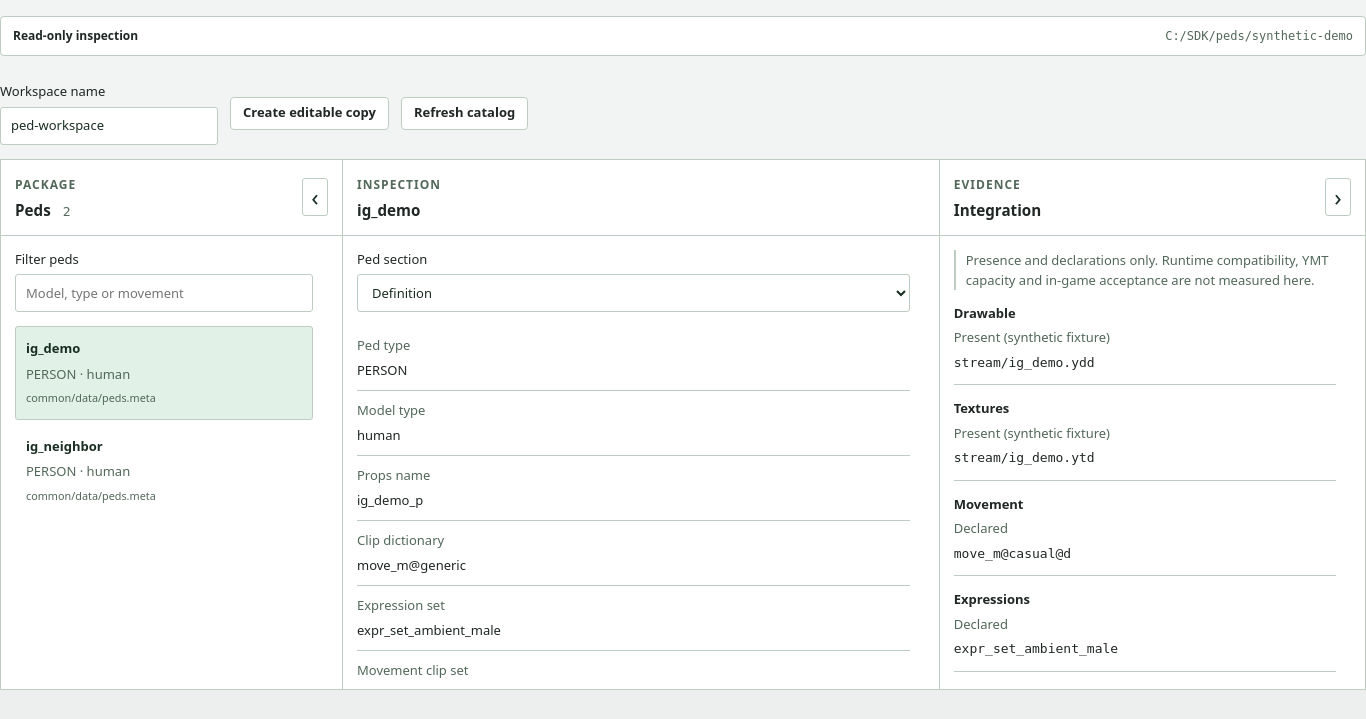
it: does not silently choose one of multiple same-name model assets
Check: the heading "ig_demo" is shown, box [357,200,420,220]
Select "Preview" in the dropdown labelled "Ped section" at x=633, y=293, box [357,274,910,312]
(page scrolled)
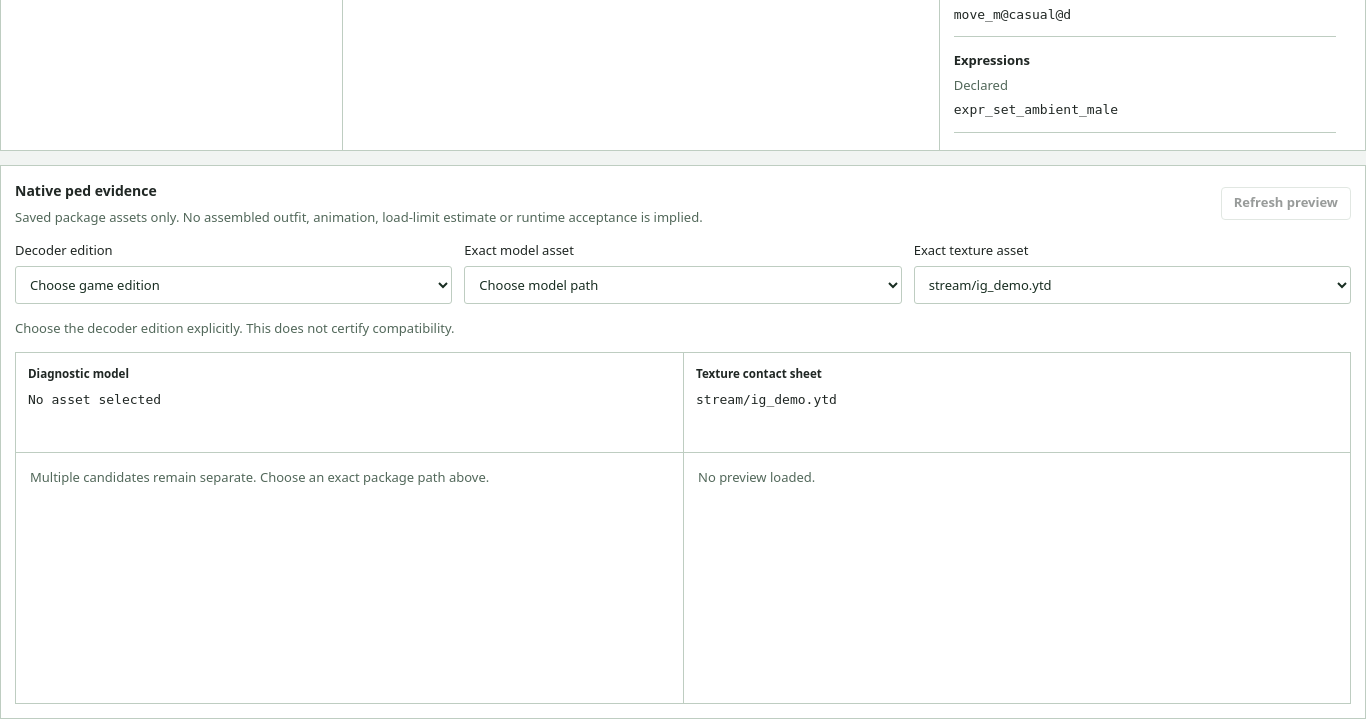
Check: the dropdown labelled "Exact model asset" shows "Choose model path", box [464,266,902,304]
Check: the text "Multiple candidates remain separate. Choose an exact package path above." is shown, box [30,468,489,486]
